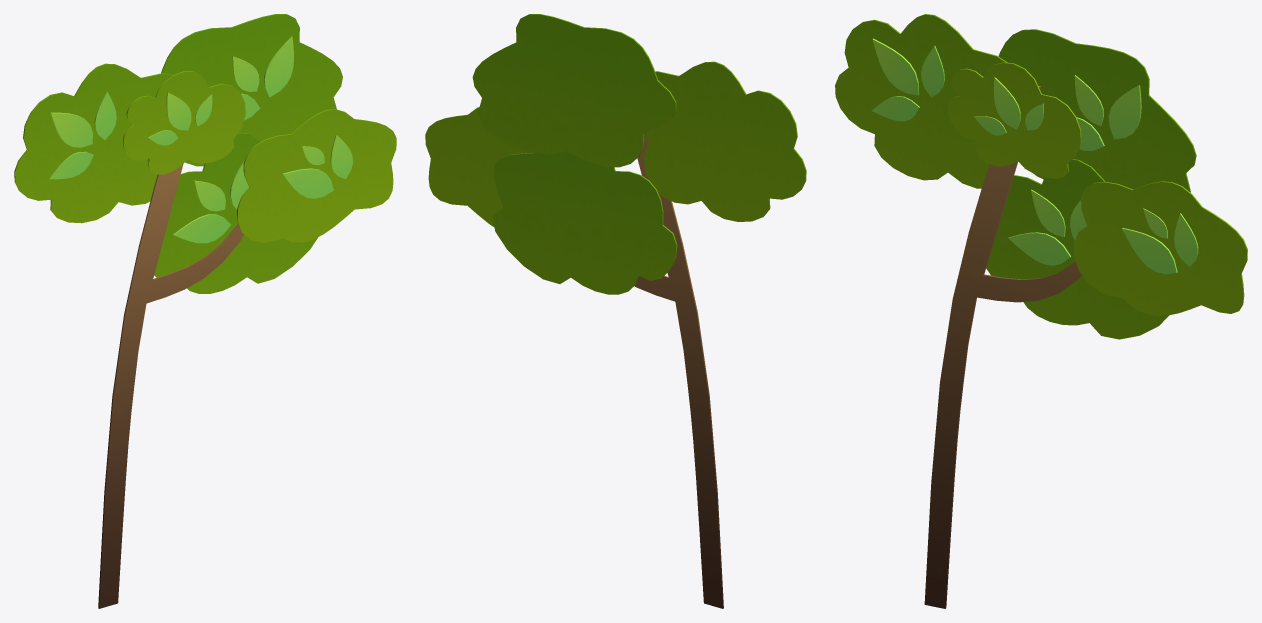
Rendered from obj-boom-1.FBX.
The picture shows the model from 3 angles, left to right: view 1: azimuth 30°, elevation 25°; view 2: azimuth 150°, elevation 25°; view 3: azimuth 330°, elevation 25°; orthographic projection. The views are drawn at different scales.
Parts seen in each view (by area): view 1: boom 1; view 2: boom 1; view 3: boom 1.
Boxes of the visible parts, bbox=[...] form: boom 1: bbox=[14, 14, 396, 608]; boom 1: bbox=[425, 14, 806, 608]; boom 1: bbox=[835, 14, 1247, 608].
Bounding box in the file's own units: 12 × 16.61 × 0.3117.
Materials: 1 (1 with a texture image).
